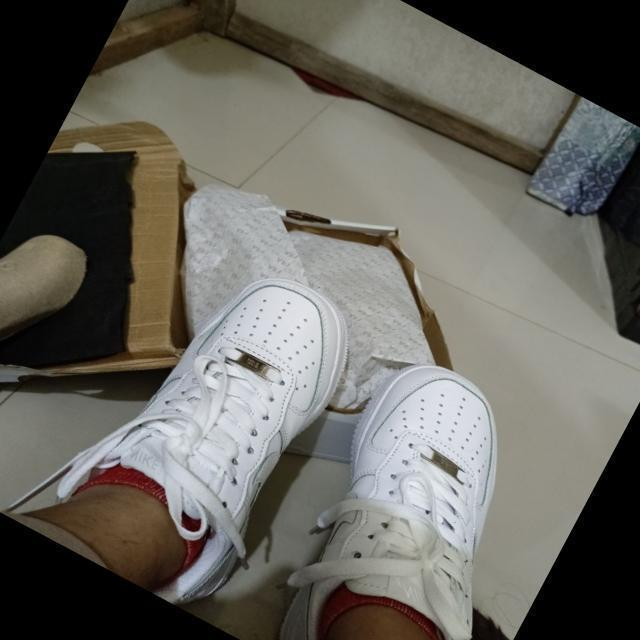nike fake air force: (29, 225, 378, 628), (235, 337, 579, 640)
